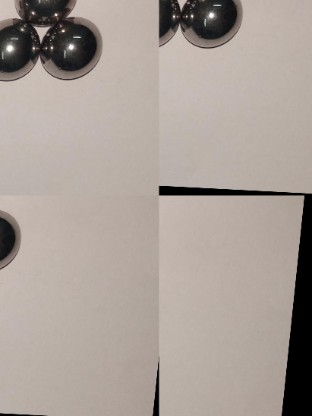ironball: (38, 20, 105, 80), (180, 0, 244, 46), (0, 20, 36, 83), (0, 206, 26, 274), (17, 0, 75, 24), (158, 0, 179, 51)
